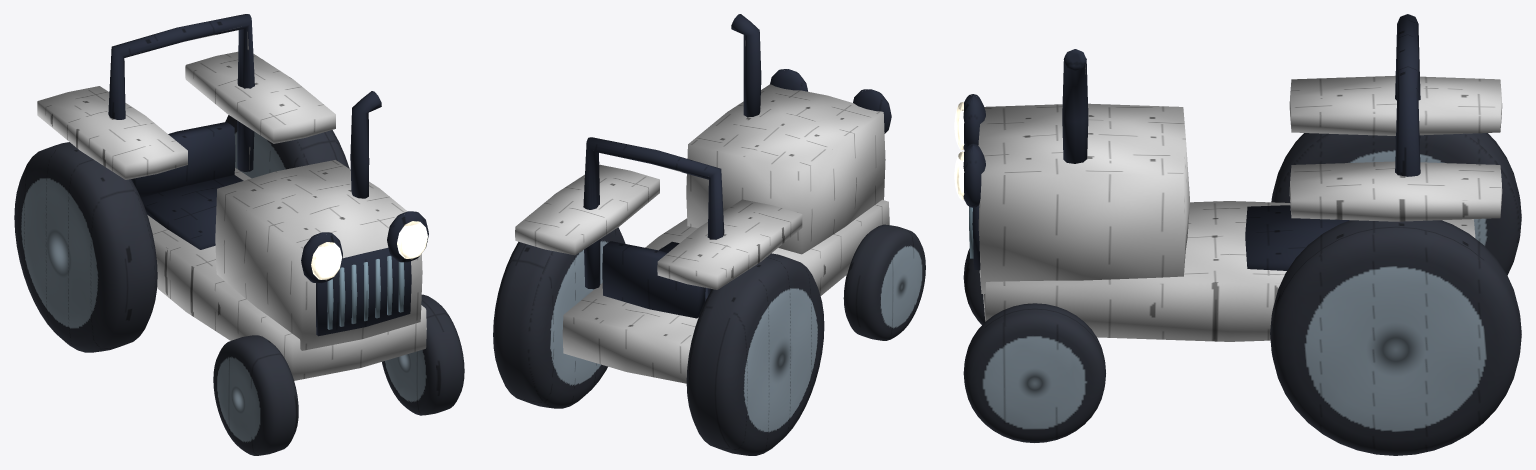
The model's file is tractor.glb.
The picture shows the model from 3 angles, left to right: view 1: azimuth 30°, elevation 25°; view 2: azimuth 150°, elevation 25°; view 3: azimuth 270°, elevation 25°; orthographic projection. The views are drawn at different scales.
Parts seen in each view (by area): view 1: body_paint, body_details, wheel_RR, wheel_FR, wheel_FL, wheel_RL; view 2: body_paint, wheel_RR, wheel_RL, body_details, wheel_FR; view 3: body_paint, wheel_RL, wheel_FL, body_details, wheel_RR, wheel_FR.
Boxes of the visible parts, x1,y1,x2,y2 form: body_paint: (37,51,426,380); body_details: (108,14,428,336); wheel_RR: (14,142,157,352); wheel_FR: (213,335,298,455); wheel_FL: (382,294,464,415); wheel_RL: (225,115,349,178); body_paint: (515,84,889,383); wheel_RR: (686,253,824,455); wheel_RL: (493,227,625,408); body_details: (583,14,891,318); wheel_FR: (843,224,925,340); body_paint: (978,75,1502,341); wheel_RL: (1270,220,1521,455); wheel_FL: (963,303,1105,442); body_details: (954,14,1420,270); wheel_RR: (1271,133,1521,275); wheel_FR: (963,248,985,324).
Bounding box in the file's own units: 1.6 × 1.88 × 2.6.
2 materials, 2 textured.
